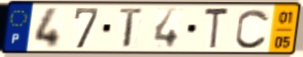4: (32, 6, 64, 50), (152, 7, 182, 51)
7: (72, 6, 100, 50)
C: (233, 7, 271, 51)
T: (203, 6, 231, 52), (118, 6, 146, 50)
